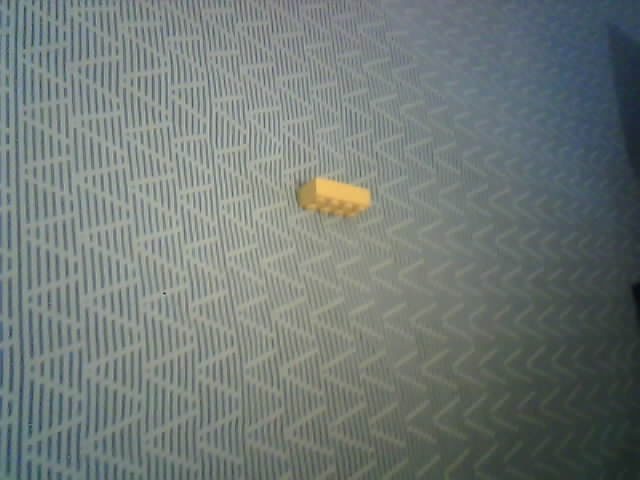lego: (296, 177, 371, 218)
